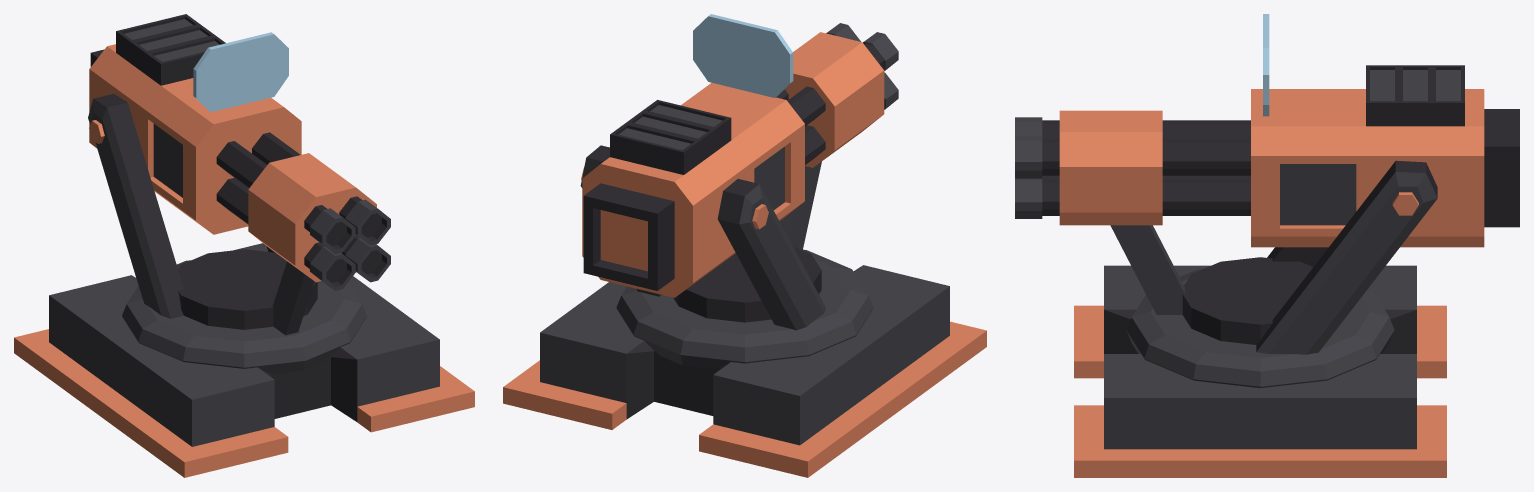
Rendered from rifler.fbx.
The picture shows the model from 3 angles, left to right: view 1: azimuth 30°, elevation 25°; view 2: azimuth 150°, elevation 25°; view 3: azimuth 270°, elevation 25°; orthographic projection. The views are drawn at different scales.
Visible parts, largest first — view 1: Cylinder.037, Cube.058; view 2: Cylinder.037, Cube.058; view 3: Cylinder.037, Cube.058.
Part boxes in pixels (x1=…): Cylinder.037: x1=88, y1=14, x2=390, y2=374; Cube.058: x1=14, y1=243, x2=474, y2=477; Cylinder.037: x1=580, y1=14, x2=898, y2=368; Cube.058: x1=503, y1=265, x2=986, y2=477; Cylinder.037: x1=1015, y1=14, x2=1519, y2=387; Cube.058: x1=1074, y1=265, x2=1446, y2=477.
Bounding box in the file's own units: 179 × 198 × 246.
